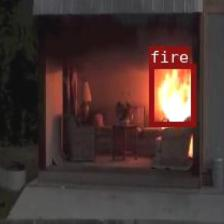fire: (148, 63, 194, 125)
